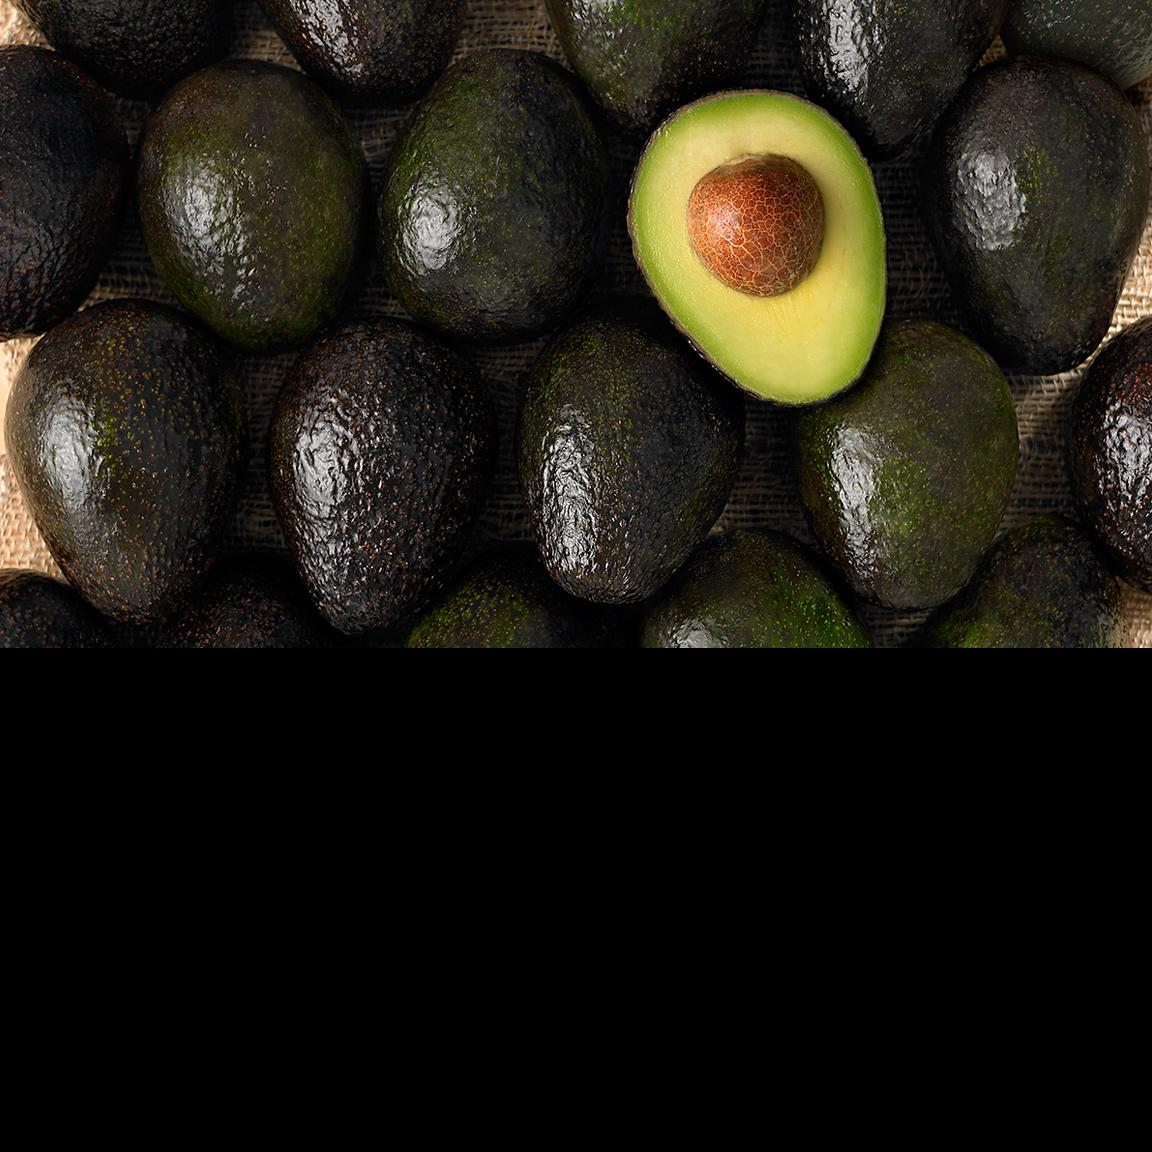ripe: (265, 316, 499, 644), (375, 49, 614, 347), (136, 60, 376, 356), (41, 297, 248, 628), (517, 313, 743, 606), (940, 56, 1145, 376), (794, 322, 1018, 613), (1065, 314, 1152, 587)
